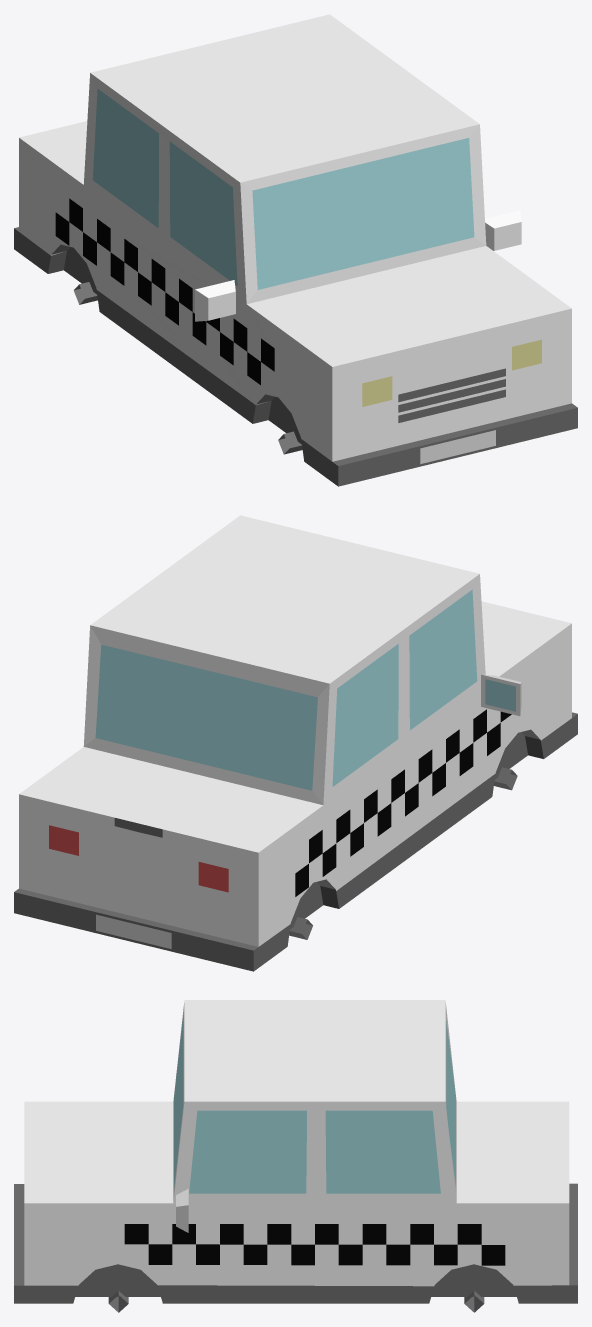
File: taxi.fbx
3 views of the same model, one above another, from view 1: azimuth 30°, elevation 25°; view 2: azimuth 150°, elevation 25°; view 3: azimuth 270°, elevation 25° (orthographic). The views are drawn at different scales.
Visible parts, largest first — view 1: ST_Veh_Taxi_Z; view 2: ST_Veh_Taxi_Z; view 3: ST_Veh_Taxi_Z.
Part boxes in pixels (bbox=[...]): ST_Veh_Taxi_Z: bbox=[14, 14, 577, 486]; ST_Veh_Taxi_Z: bbox=[14, 515, 577, 971]; ST_Veh_Taxi_Z: bbox=[14, 1000, 577, 1312].
Size of the model in its own units: 3.33 by 2.4 by 5.75.
